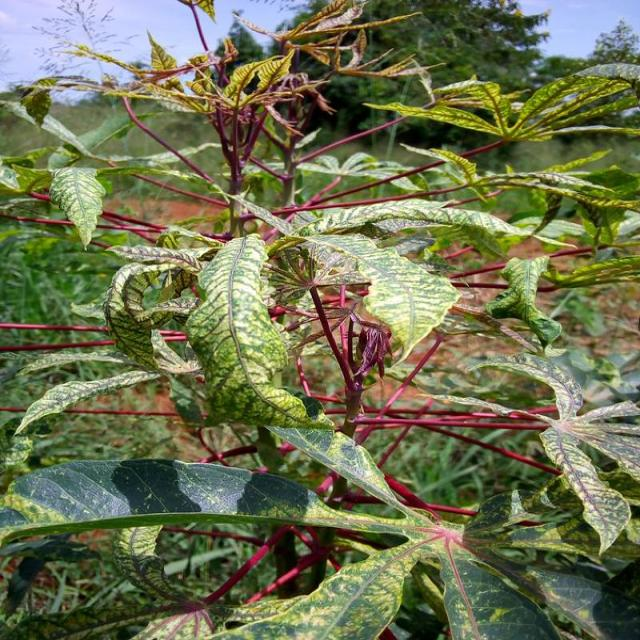cassava leaf: (184, 231, 310, 429), (48, 164, 106, 249)
